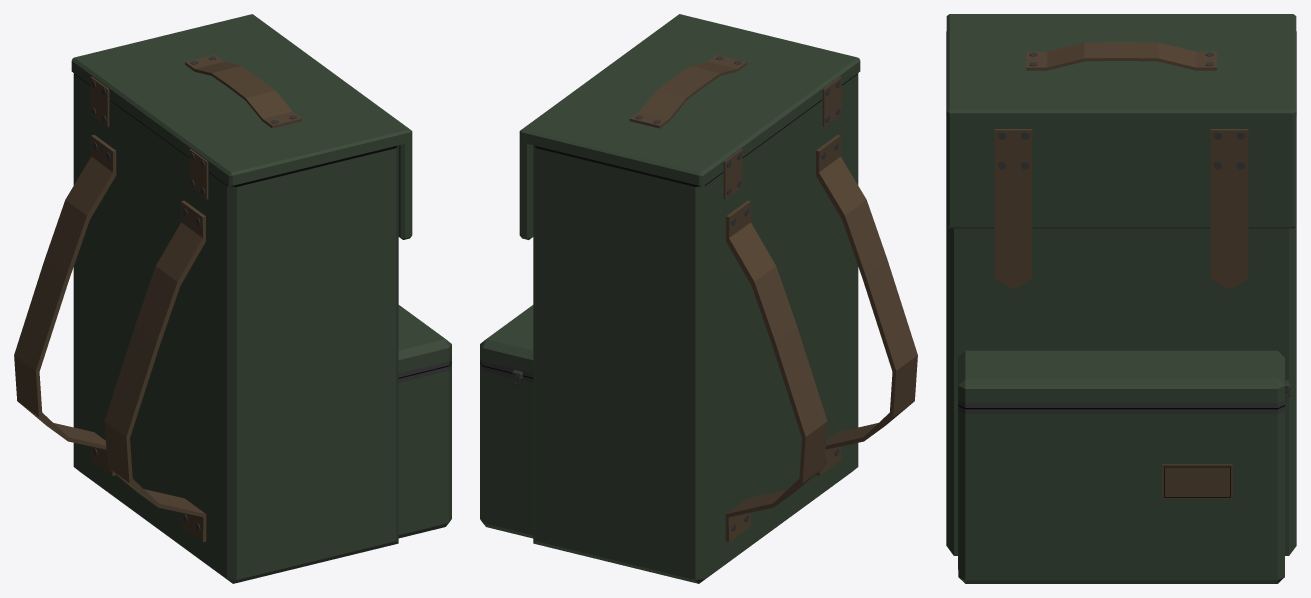
Rendered from bag.fbx.
3 renders of one model, left to right at view 1: azimuth 30°, elevation 25°; view 2: azimuth 150°, elevation 25°; view 3: azimuth 270°, elevation 25°, orthographic. The views are drawn at different scales.
Visible parts, largest first — view 1: Plane.003; view 2: Plane.003; view 3: Plane.003.
Boxes of the visible parts, x1,y1,x2,y2 form: Plane.003: [14, 14, 451, 583]; Plane.003: [480, 14, 917, 583]; Plane.003: [946, 14, 1296, 583].
Size of the model in its own units: 422 by 551 by 377.
